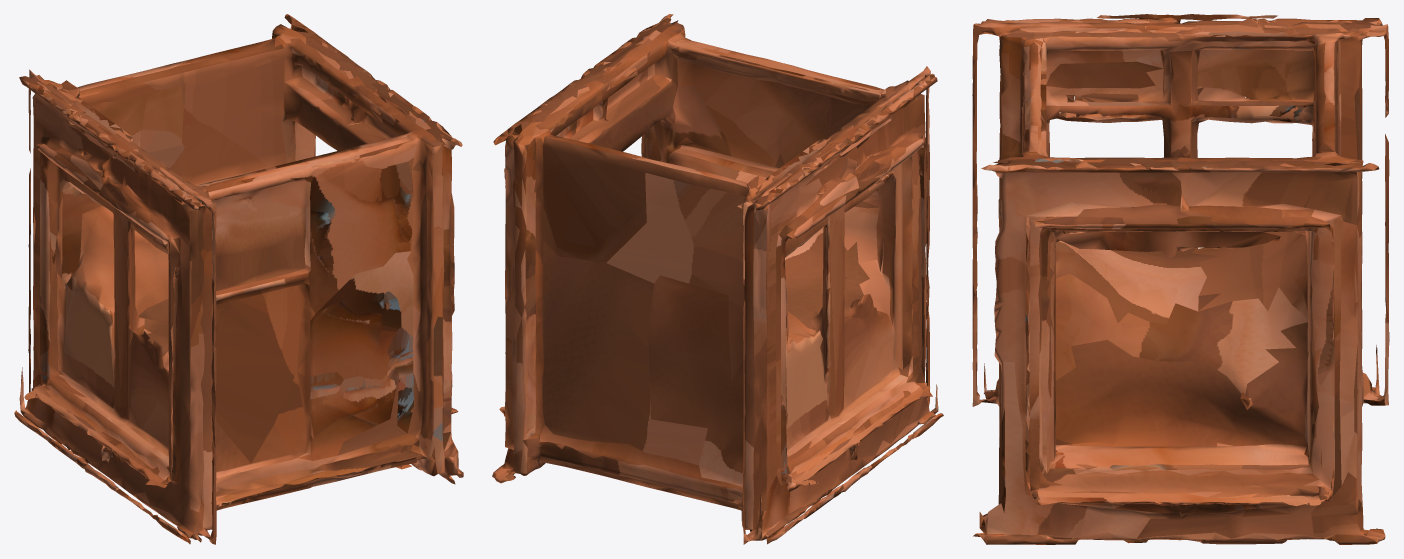
Rendered from Env_ObservationWall_4m_Repaired.fbx.
3 views of the same model, side by side, from view 1: azimuth 30°, elevation 25°; view 2: azimuth 150°, elevation 25°; view 3: azimuth 270°, elevation 25° (orthographic). The views are drawn at different scales.
Visible parts, largest first — view 1: texture_mapping; view 2: texture_mapping; view 3: texture_mapping.
Part boxes in pixels (x1,y1,x2,y2): texture_mapping: [14, 14, 463, 544]; texture_mapping: [492, 14, 943, 544]; texture_mapping: [972, 14, 1389, 544].
Bounding box in the file's own units: 95.91 × 99.54 × 98.12.
